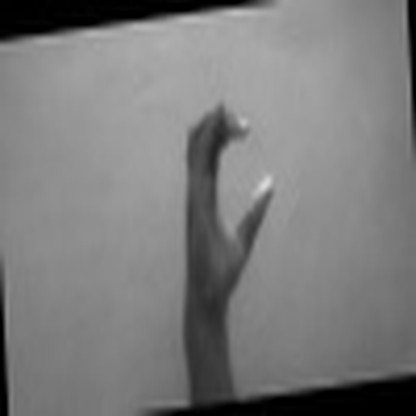c: (175, 96, 278, 297)
